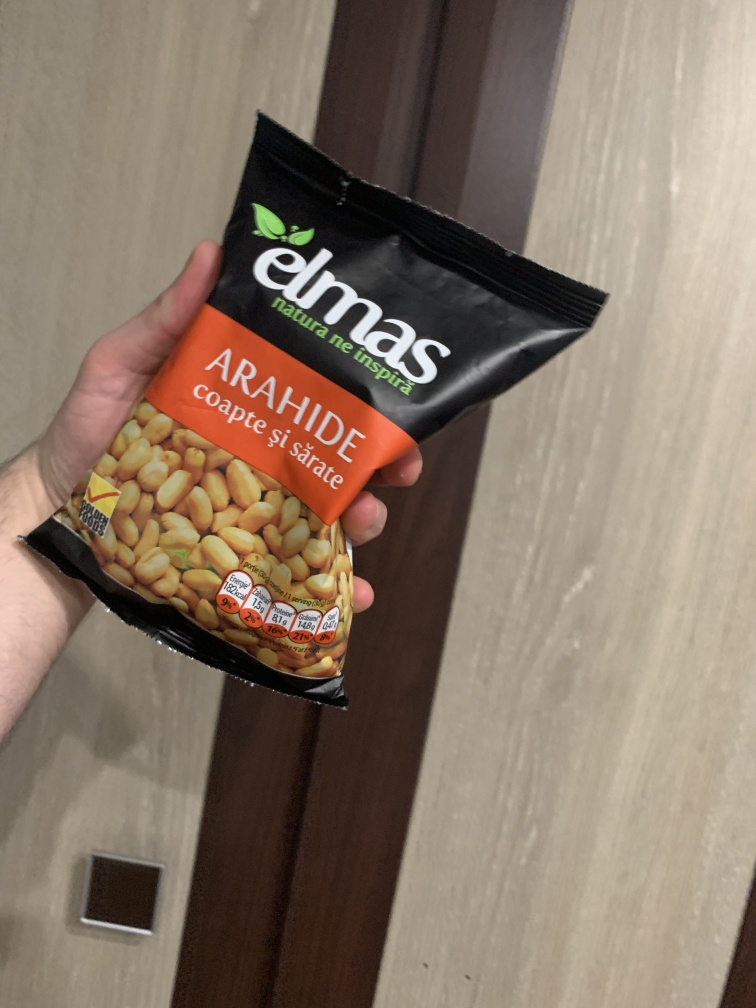peanuts: (31, 109, 625, 720)
